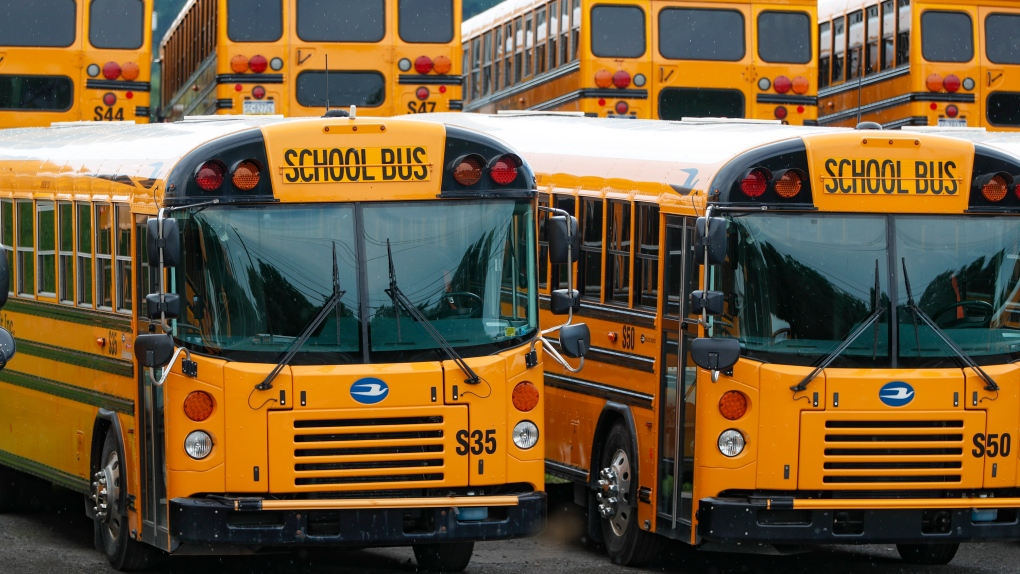bus: (10, 110, 544, 573), (537, 114, 1020, 564)
